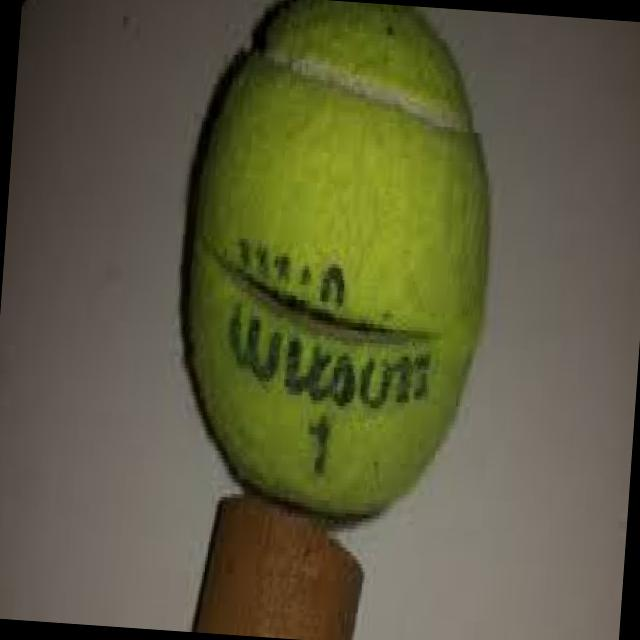Tennis Ball: (167, 0, 508, 535)
